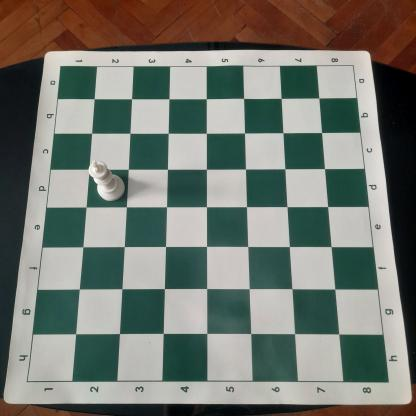white-king: (87, 158, 127, 203)
